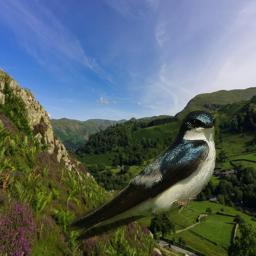Swallow: (66, 109, 219, 244)
